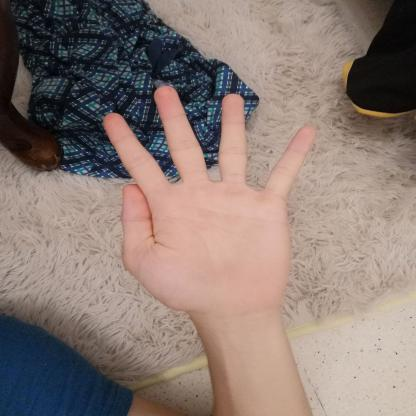SHEEN: (91, 78, 330, 326)
